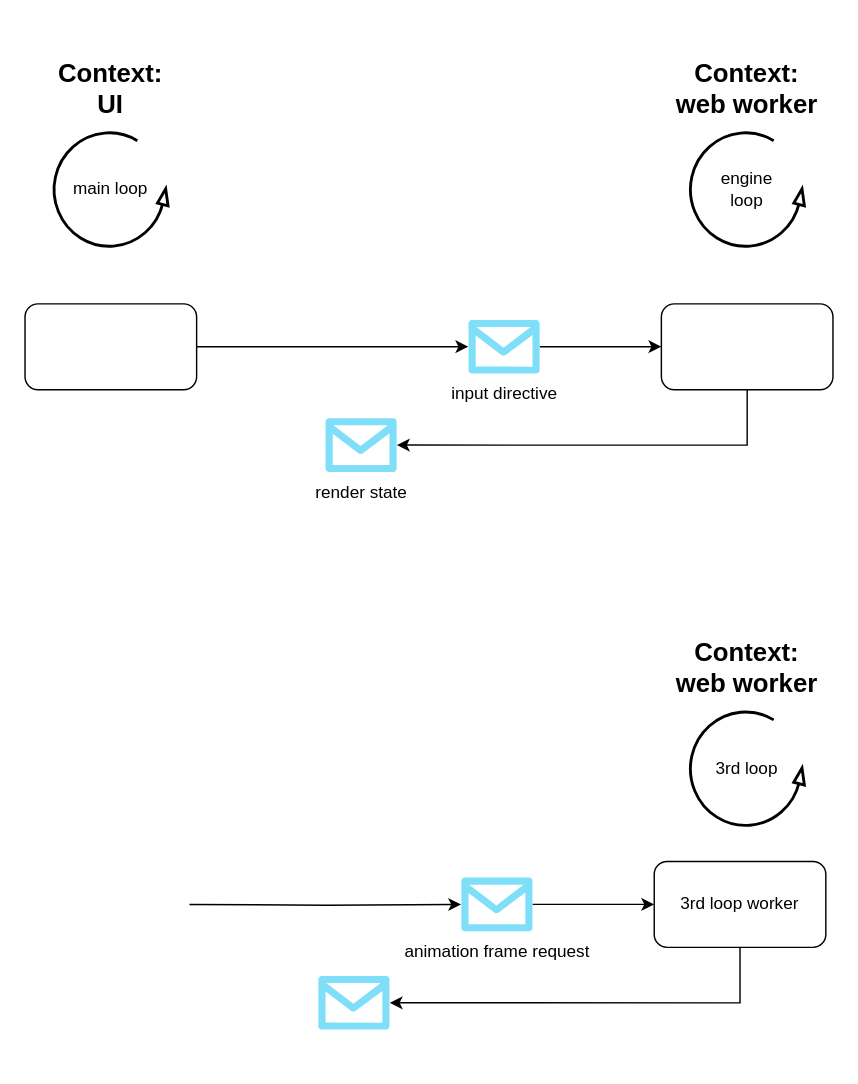
Some shapes in this 858 by 1084 pixel diagram are drawn without their labels. Here are the shapes that lost their labels. From the top down, the box of each, then its label:
(24, 302, 197, 390): input detector
(660, 302, 833, 390): engine
(317, 975, 389, 1029): animation frame
